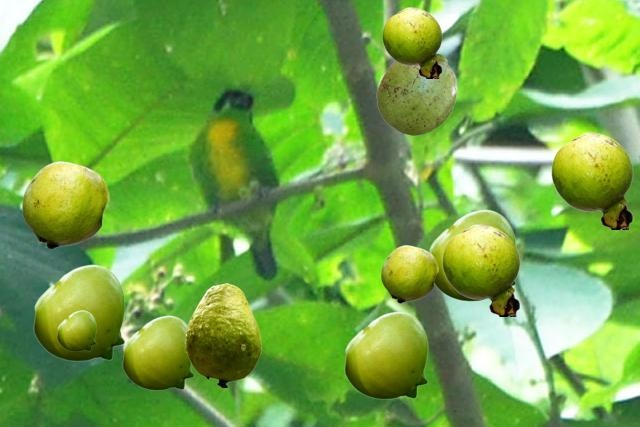guava: (33, 264, 124, 360), (184, 283, 260, 387), (429, 209, 515, 300), (551, 132, 632, 228), (22, 161, 108, 248), (344, 311, 427, 398), (442, 224, 519, 315), (376, 53, 456, 134), (122, 315, 193, 389), (382, 7, 441, 77), (381, 245, 437, 302), (57, 310, 95, 350)
